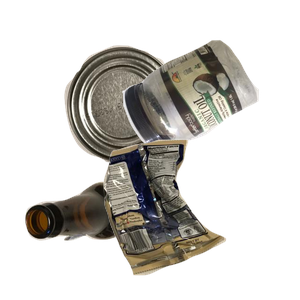glass: (23, 179, 183, 300)
metal: (62, 43, 232, 198)
plastic: (120, 37, 300, 185)
trash: (101, 137, 300, 300)
